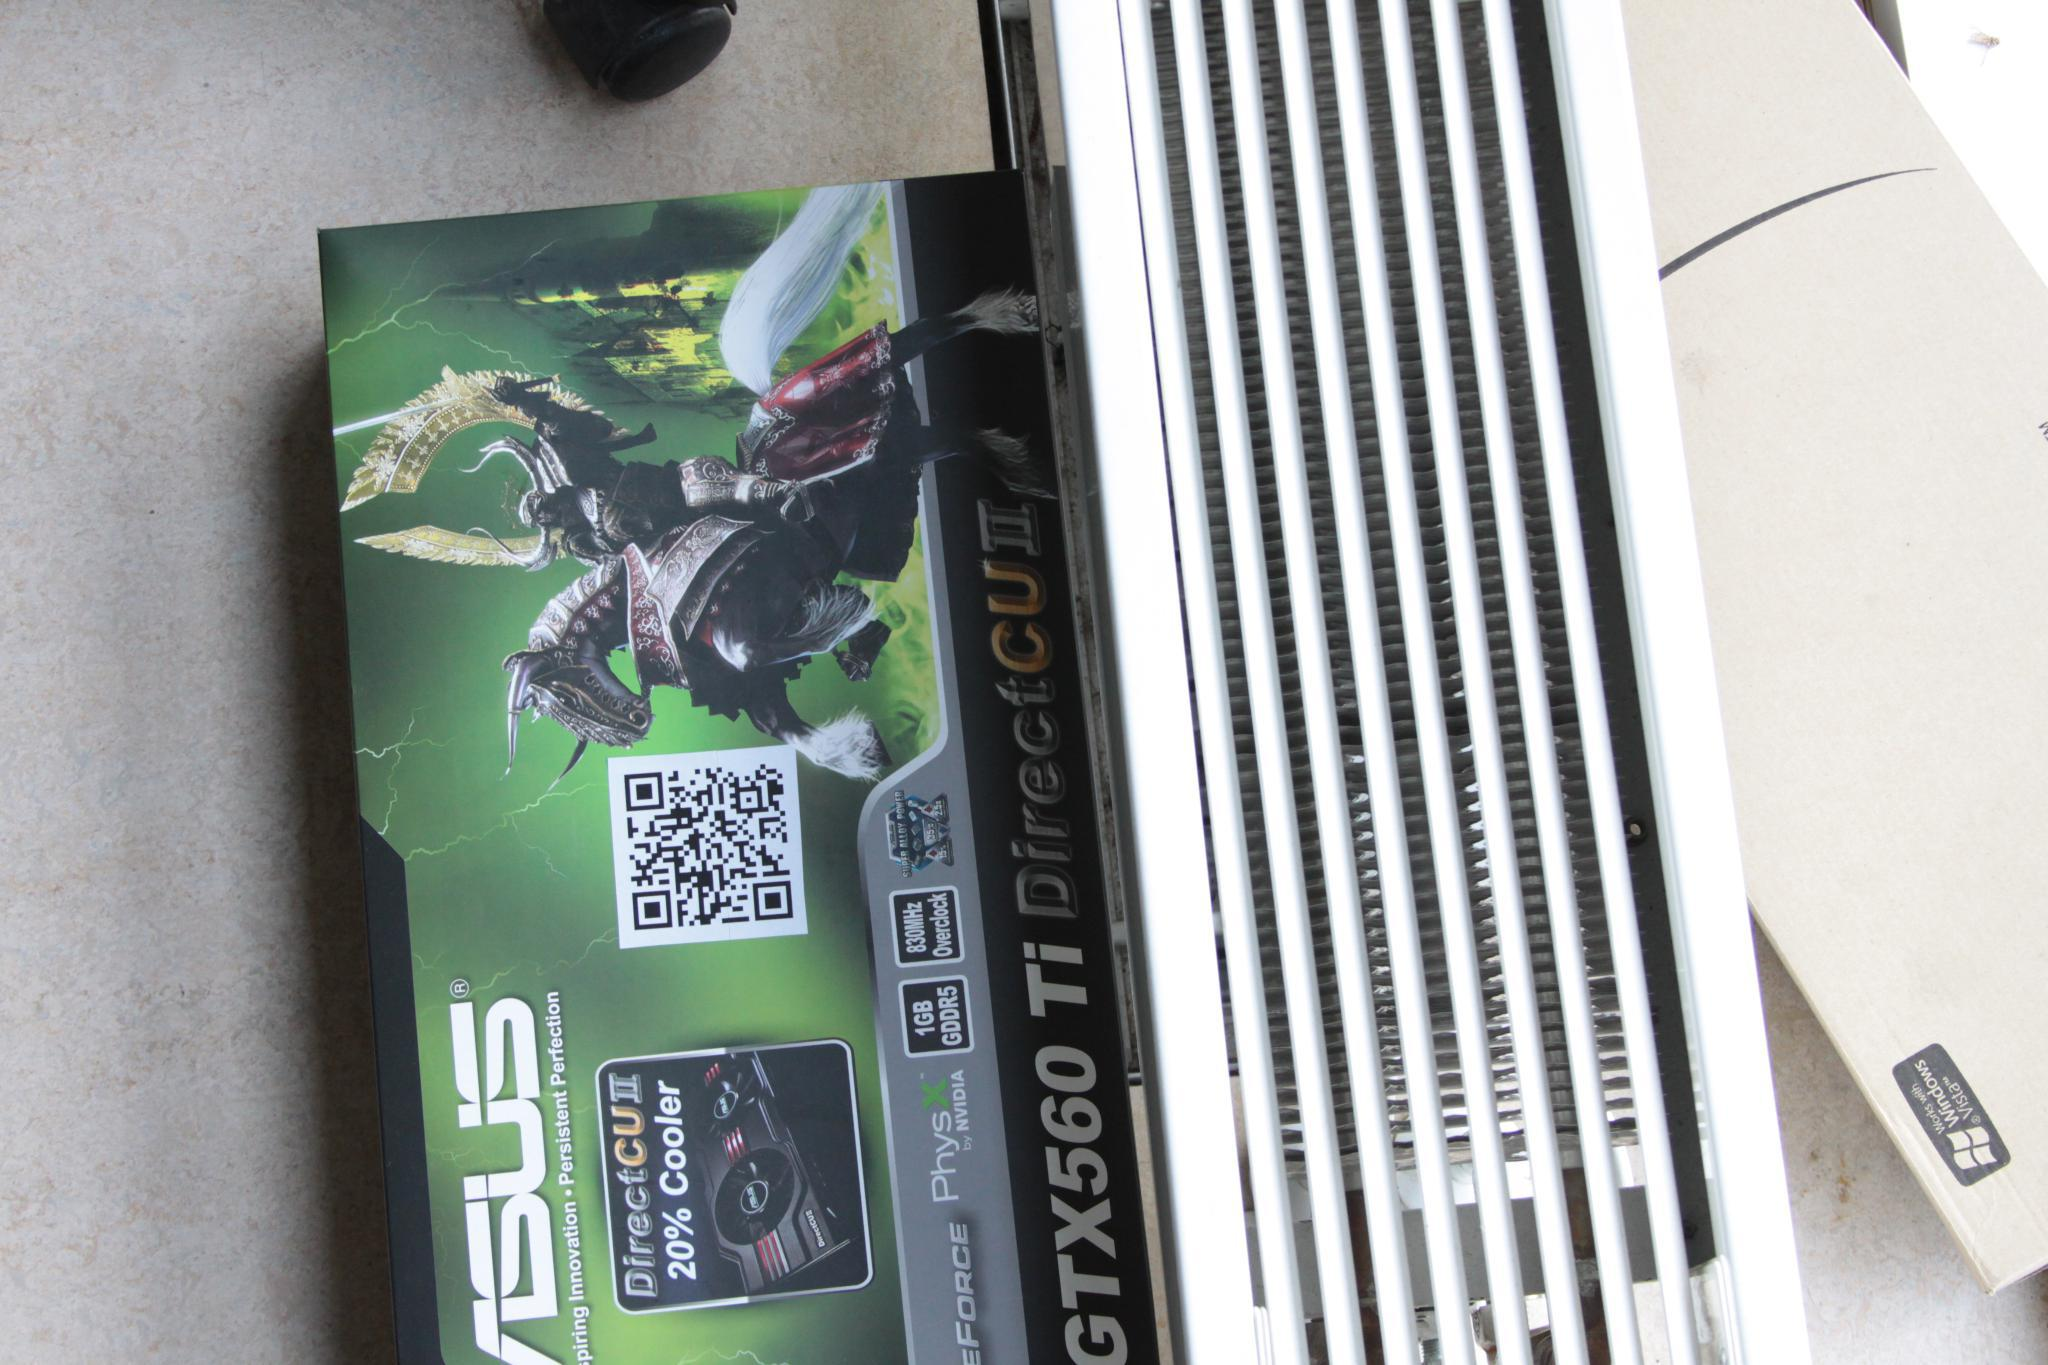Finder pattern: (627, 884, 675, 938), (620, 766, 668, 814), (749, 879, 798, 926)
